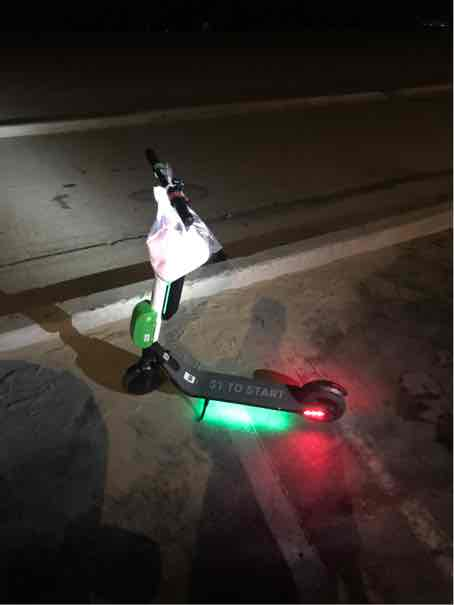scooter: (114, 138, 360, 428)
